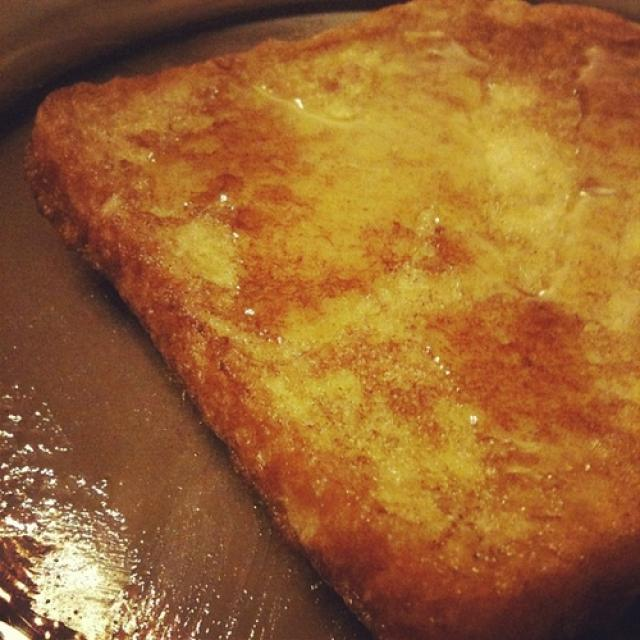面包点心: (25, 18, 616, 623)
